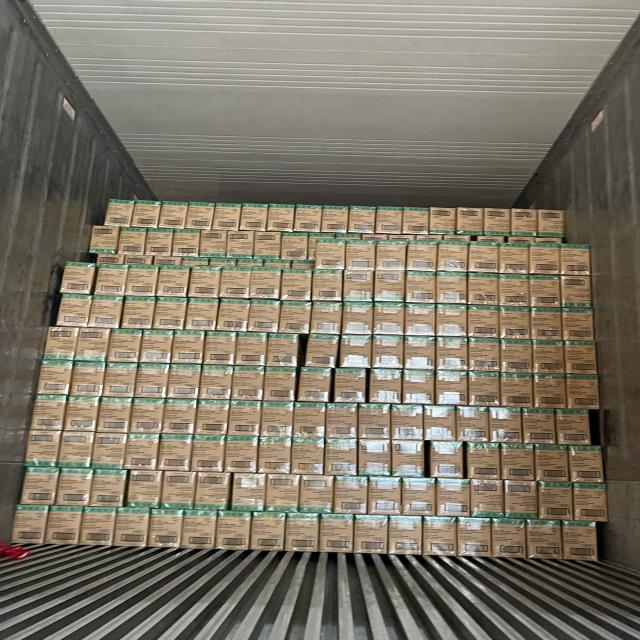Carton: (11, 504, 51, 544), (46, 505, 84, 546), (56, 466, 94, 506), (113, 506, 150, 547), (21, 465, 58, 505), (80, 505, 116, 546), (562, 522, 598, 562), (91, 468, 127, 508), (526, 521, 562, 560), (458, 518, 493, 558), (491, 521, 527, 559), (430, 441, 466, 479), (128, 471, 164, 509), (232, 474, 268, 512), (388, 516, 423, 555), (148, 508, 182, 548), (196, 474, 232, 511), (216, 514, 252, 551), (422, 518, 457, 556), (353, 516, 388, 554), (301, 476, 335, 515), (572, 486, 608, 522), (24, 431, 60, 467), (504, 481, 539, 518), (88, 294, 125, 329), (267, 475, 301, 513), (438, 478, 472, 516), (403, 478, 437, 516), (540, 483, 574, 521), (390, 442, 425, 478), (402, 370, 437, 406), (569, 447, 605, 482), (36, 362, 72, 397), (465, 444, 500, 480), (250, 514, 284, 551), (469, 479, 503, 516), (334, 478, 368, 515), (182, 513, 216, 550), (60, 429, 94, 466), (358, 439, 391, 477), (500, 446, 535, 481), (556, 412, 592, 446), (126, 435, 160, 471), (163, 472, 197, 508), (368, 478, 402, 514), (63, 399, 99, 433), (367, 367, 401, 403), (285, 516, 319, 552), (29, 398, 65, 432), (319, 517, 353, 553), (91, 431, 125, 467), (60, 261, 96, 295), (324, 439, 357, 476), (57, 293, 94, 326), (98, 399, 132, 434), (76, 328, 110, 363), (298, 369, 332, 404), (260, 440, 294, 475), (42, 328, 77, 362), (489, 408, 522, 444), (304, 336, 340, 369), (436, 372, 470, 406), (160, 438, 194, 472), (131, 400, 165, 434), (164, 401, 198, 435), (335, 368, 369, 402), (226, 440, 260, 474), (227, 404, 261, 438), (217, 298, 251, 332), (391, 406, 424, 441), (357, 405, 390, 440), (372, 335, 405, 370), (197, 401, 230, 436), (72, 362, 105, 397), (423, 406, 455, 442), (456, 407, 488, 443), (268, 336, 301, 370), (325, 405, 358, 439), (523, 411, 556, 445), (291, 441, 324, 475), (437, 338, 470, 372), (566, 376, 600, 409), (264, 369, 297, 403), (104, 364, 137, 398), (536, 448, 570, 481), (467, 374, 500, 407), (500, 375, 533, 408), (533, 376, 566, 409), (193, 440, 226, 473), (136, 366, 169, 399), (530, 309, 563, 342), (469, 341, 502, 374), (498, 308, 531, 341), (95, 263, 128, 296), (375, 270, 407, 304), (405, 337, 437, 371), (564, 343, 598, 375), (312, 302, 344, 336), (232, 368, 264, 402), (200, 367, 232, 401), (340, 336, 372, 370), (561, 274, 593, 308), (90, 298, 124, 330), (529, 274, 561, 308), (236, 335, 268, 368), (172, 334, 205, 366), (293, 406, 325, 439), (263, 405, 295, 438), (140, 333, 173, 365), (532, 343, 565, 375), (344, 270, 376, 303), (169, 367, 201, 400), (280, 305, 312, 338), (124, 296, 156, 329), (529, 242, 561, 275), (562, 311, 596, 342), (374, 304, 406, 336), (437, 305, 469, 337), (205, 334, 237, 366), (437, 273, 469, 305), (466, 307, 498, 339), (500, 342, 532, 374), (343, 304, 375, 336), (250, 302, 282, 334), (188, 298, 220, 330), (498, 274, 530, 306), (407, 272, 438, 305), (406, 304, 437, 337), (283, 269, 314, 302), (155, 300, 188, 331), (314, 238, 347, 269), (498, 242, 529, 275), (108, 332, 140, 363), (312, 271, 343, 303), (250, 269, 282, 300), (467, 275, 498, 306), (344, 242, 376, 272), (560, 244, 590, 276), (126, 268, 158, 298), (467, 244, 499, 274), (438, 243, 469, 273), (220, 270, 251, 300), (407, 243, 439, 272), (89, 225, 121, 254), (185, 200, 215, 230), (159, 269, 190, 298), (191, 270, 222, 299), (104, 198, 135, 227), (131, 199, 162, 228), (212, 202, 241, 232), (377, 244, 408, 272), (159, 200, 188, 229), (239, 202, 268, 231), (118, 226, 147, 255), (145, 227, 174, 256), (281, 233, 309, 262), (402, 206, 430, 235), (456, 207, 484, 236), (484, 207, 512, 236), (537, 209, 566, 237), (199, 229, 227, 258), (254, 231, 281, 261), (228, 231, 256, 259), (510, 208, 538, 236), (172, 228, 200, 256), (430, 207, 457, 235), (376, 206, 402, 235), (268, 206, 295, 233), (349, 207, 376, 234), (321, 208, 349, 234), (294, 207, 321, 233)
